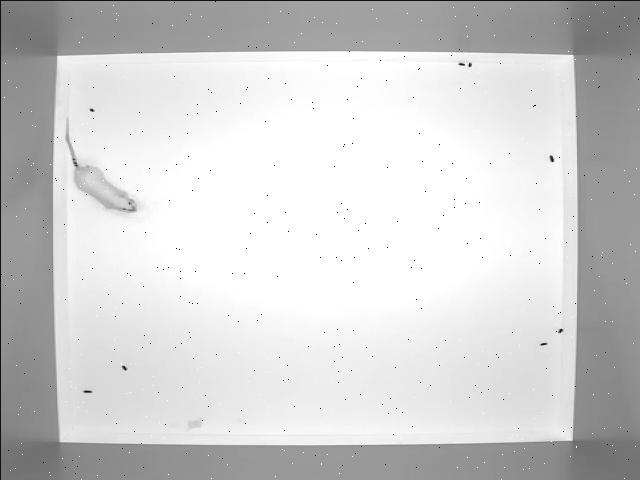Tikus: (54, 116, 140, 214)
